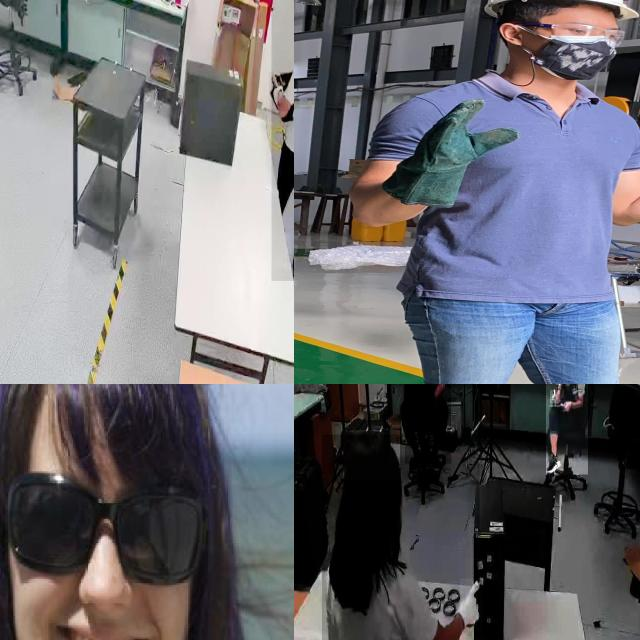face_mask: (523, 18, 631, 76)
face_nomask: (8, 467, 188, 640)
glasses: (0, 459, 211, 602), (512, 21, 634, 49)
hand_glove: (404, 98, 530, 174), (459, 578, 484, 640), (269, 72, 288, 111)
hand_noglove: (550, 390, 561, 404), (561, 400, 571, 412)
head_helmet: (477, 0, 640, 20)
head_nohelmet: (0, 384, 232, 433), (343, 430, 401, 481)
person: (353, 0, 640, 384), (0, 384, 294, 640), (322, 434, 480, 640), (271, 0, 294, 281), (545, 384, 588, 475), (404, 384, 451, 464)
shoes: (546, 450, 562, 476)
